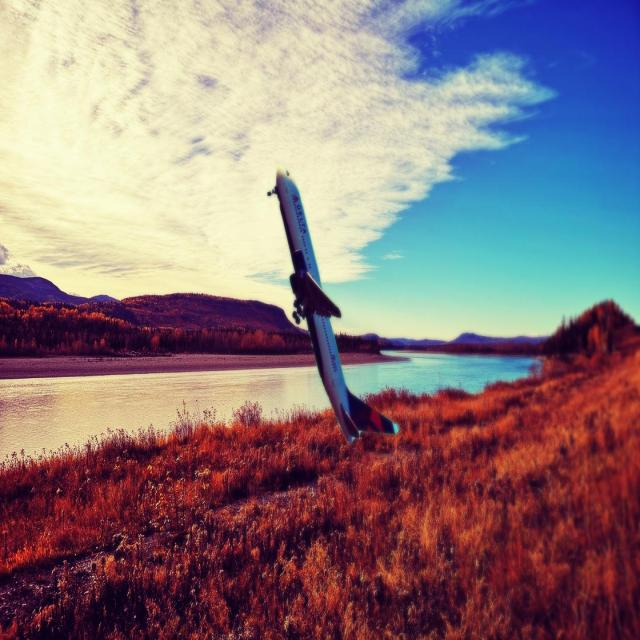airplane: (265, 167, 400, 445)
